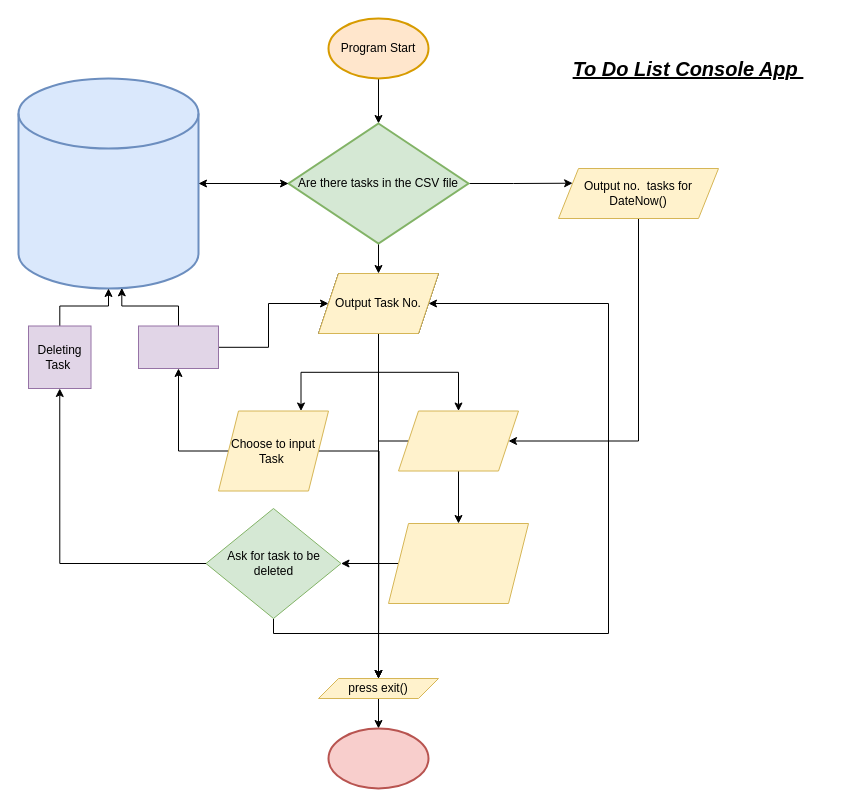
Image size: 855x806. Some labels were removed from this diagram. The box of each missing label's shape, as (x1, y1, x2, y2) in pixels:
Adding Task: (138, 325, 218, 368)
Input Task No.: (398, 410, 518, 471)
output details of the notes: (388, 522, 528, 604)
Program end: (327, 727, 429, 789)
ToDo.csv: (17, 77, 199, 289)
